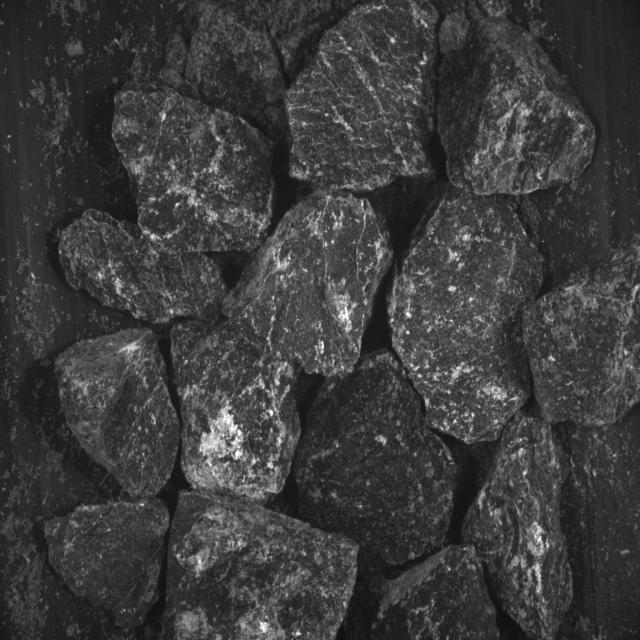Stones: (390, 192, 544, 444), (295, 352, 457, 571), (224, 191, 394, 378), (164, 491, 359, 640), (287, 1, 439, 192), (439, 20, 596, 196), (114, 83, 274, 254), (462, 412, 574, 640), (172, 322, 302, 503), (525, 235, 640, 427), (56, 330, 181, 498), (60, 210, 227, 325), (46, 498, 170, 629), (186, 3, 287, 142), (372, 547, 500, 640), (261, 1, 361, 85)
